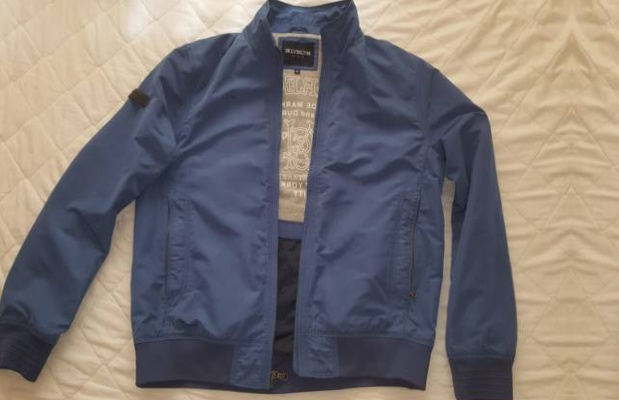Blazer: (0, 4, 537, 388), (607, 7, 619, 390)
